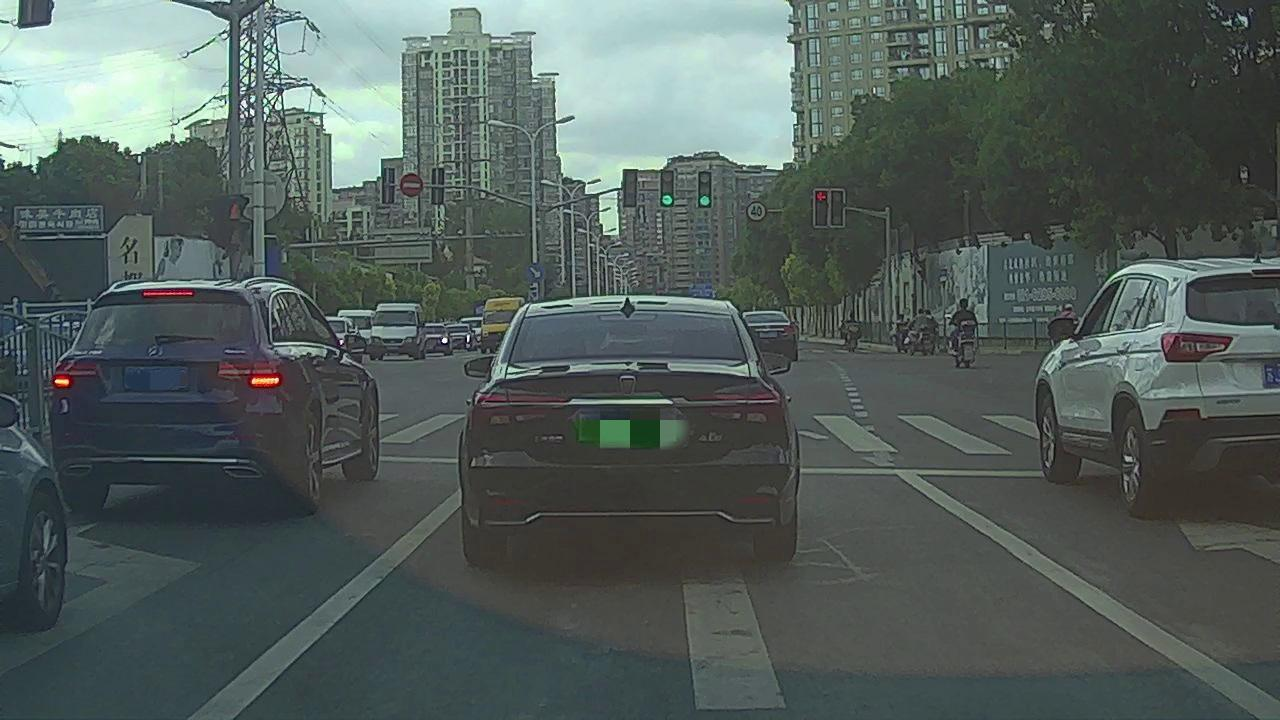traffic_light: (829, 190, 845, 227), (814, 189, 828, 227), (660, 171, 674, 208), (698, 171, 711, 209), (623, 170, 636, 207)
